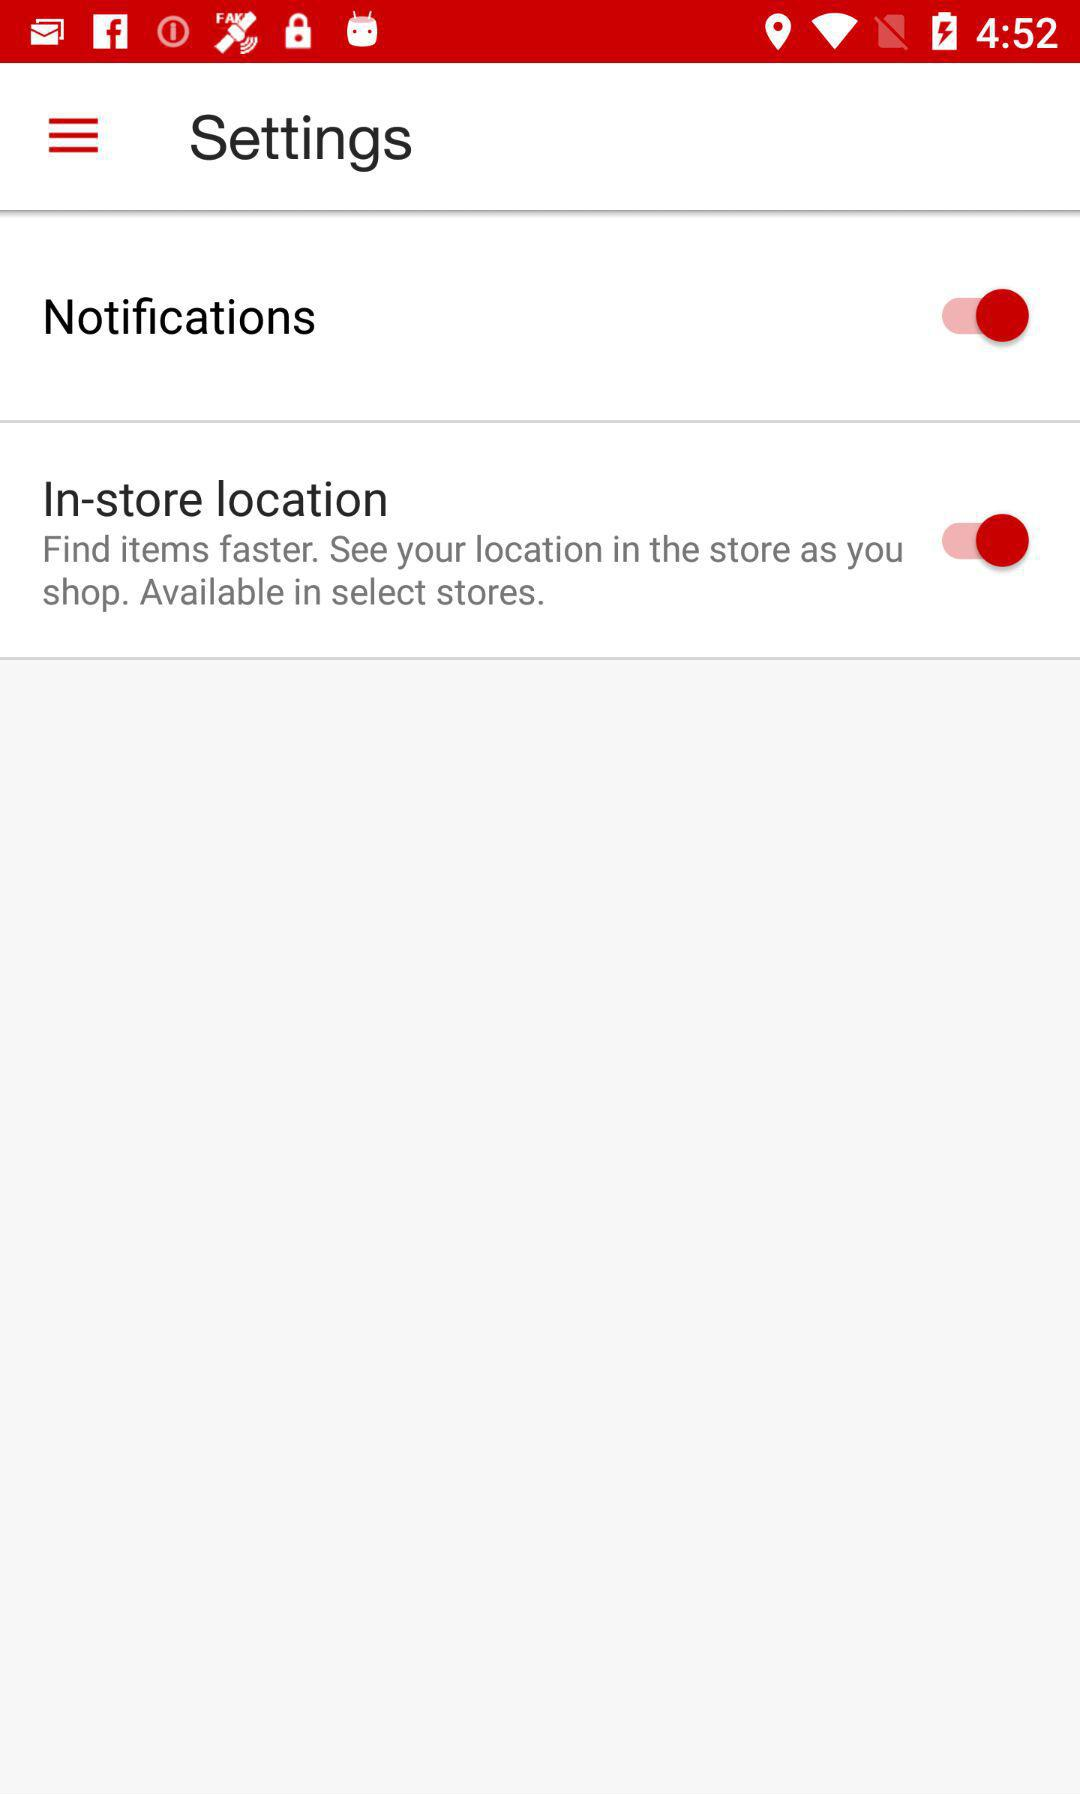Icon: (47, 117, 100, 155)
Switch: (942, 288, 1031, 343), (942, 514, 1030, 569)
Text: (44, 533, 903, 613), (191, 114, 413, 174), (45, 481, 387, 519), (46, 297, 316, 336)
Toolbar: (3, 65, 1080, 213)
UpperTaskBar: (1, 1, 1080, 64)
